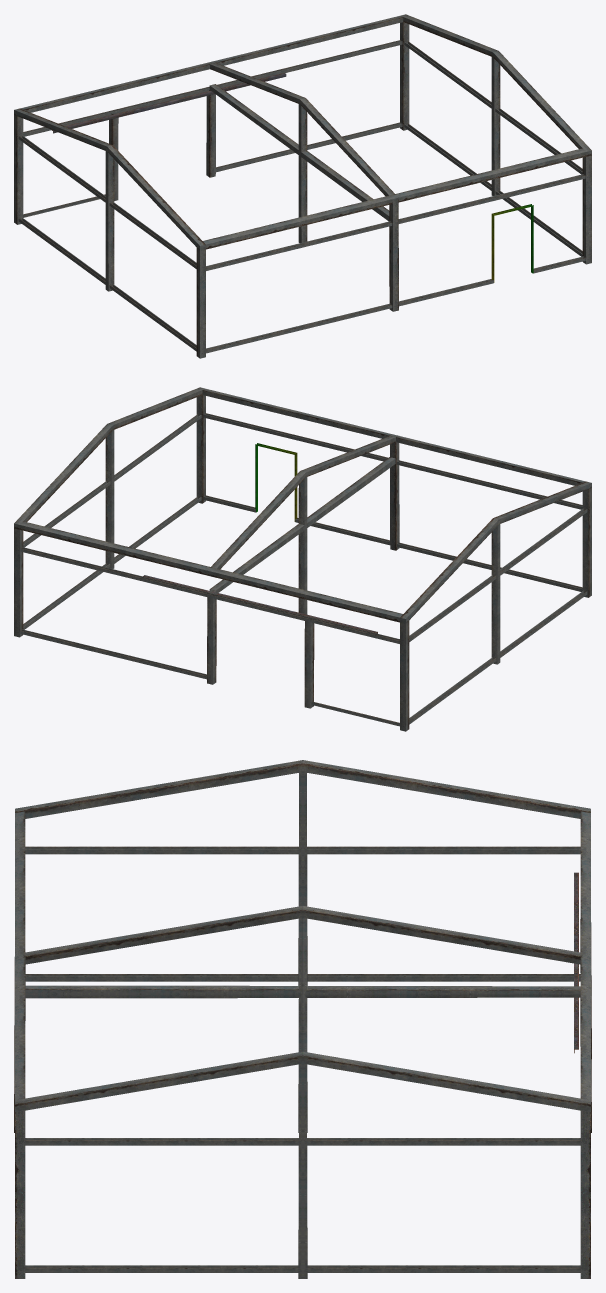
The model's file is stuccobuildingb_id_3_metaltrim_dm_0_lev1.glb.
The picture shows the model from 3 angles, top to bottom: view 1: azimuth 30°, elevation 25°; view 2: azimuth 150°, elevation 25°; view 3: azimuth 270°, elevation 25°; orthographic projection. The views are drawn at different scales.
Visible parts, largest first — view 1: stuccobuildingb_id_3_metaltrim_dm_0_lev1; view 2: stuccobuildingb_id_3_metaltrim_dm_0_lev1; view 3: stuccobuildingb_id_3_metaltrim_dm_0_lev1.
Boxes of the visible parts, box(x1,y1,x2,y2) form: stuccobuildingb_id_3_metaltrim_dm_0_lev1: box(14, 14, 591, 358); stuccobuildingb_id_3_metaltrim_dm_0_lev1: box(14, 387, 591, 731); stuccobuildingb_id_3_metaltrim_dm_0_lev1: box(14, 760, 591, 1278).
Bounding box in the file's own units: 8 × 2.81 × 6.6.
Materials: 1 (1 with a texture image).
